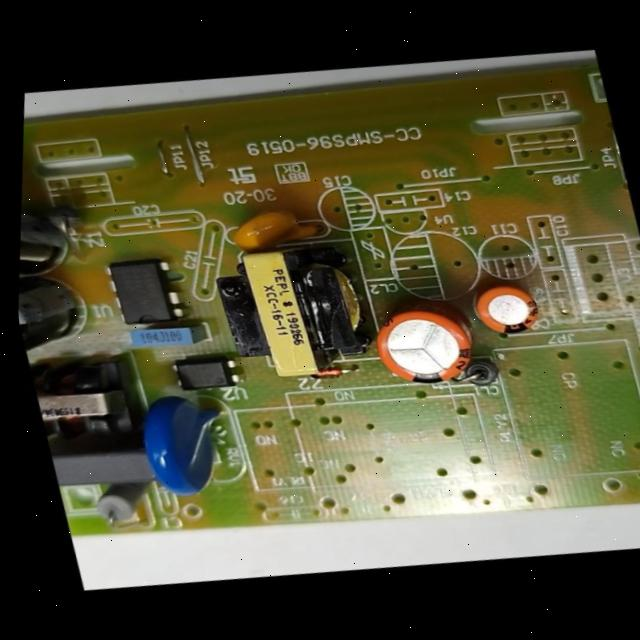Cap1: (357, 290, 499, 400)
Cap2: (463, 276, 555, 346)
Cap3: (16, 266, 104, 369)
Cap4: (14, 185, 86, 279)
MOSFET: (91, 249, 196, 336)
Mov: (116, 382, 254, 510)
Resistor: (80, 477, 164, 533)
Transformer: (195, 230, 393, 398), (21, 348, 151, 452)
